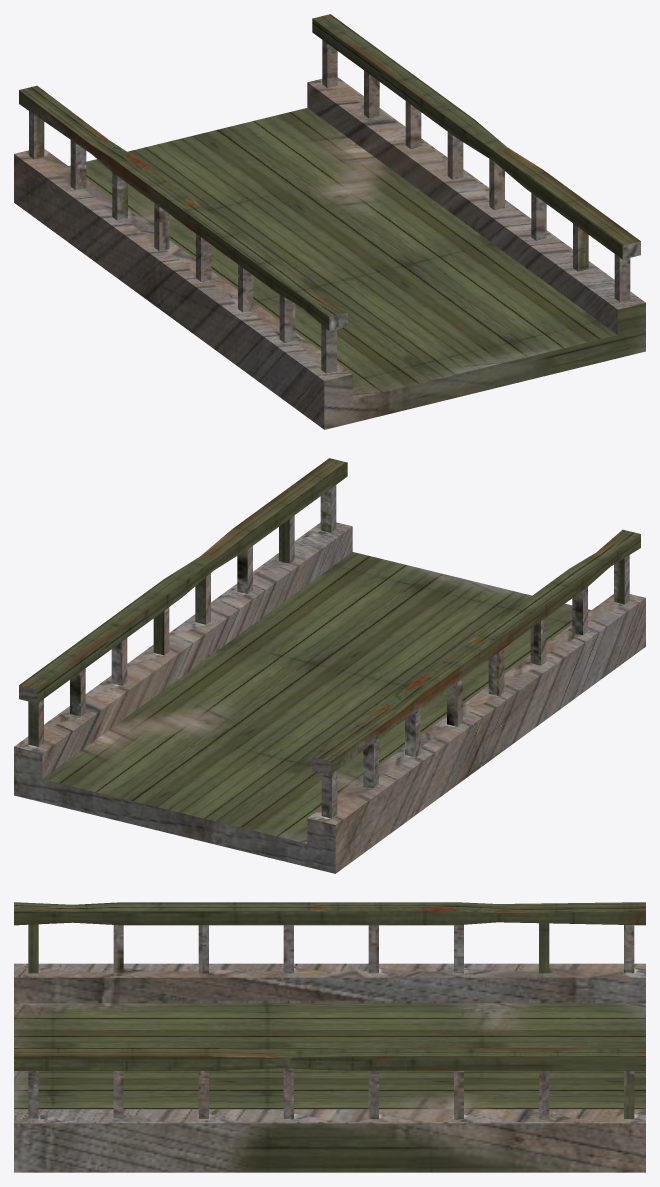
Rendered from Ponte3.fbx.
3 renders of one model, top to bottom at view 1: azimuth 30°, elevation 25°; view 2: azimuth 150°, elevation 25°; view 3: azimuth 270°, elevation 25°, orthographic.
Visible parts, largest first — view 1: Ponte3; view 2: Ponte3; view 3: Ponte3.
Boxes of the visible parts, <box> form: Ponte3: <box>14,14,645,429</box>; Ponte3: <box>14,458,645,873</box>; Ponte3: <box>14,902,645,1172</box>.
Bounding box in the file's own units: 660 × 1104 × 218.
